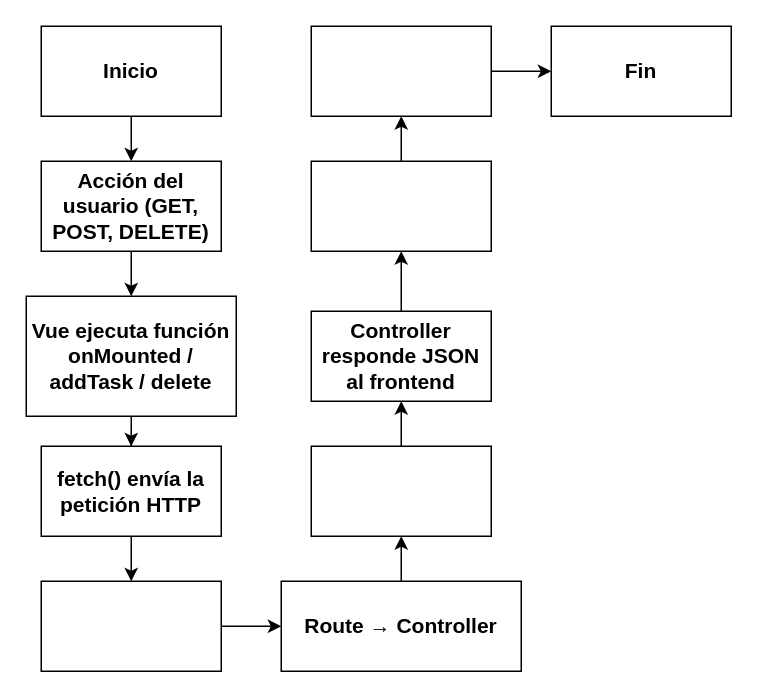
Image size: 758x698. Some labels were removed from this diagram. Each missing label, with the box of its shape:
DOM se actualiza: (310, 25, 491, 116)
Express recibe la petición: (40, 580, 221, 671)
Service accede a tasks.json: (310, 445, 491, 536)
Vue actualiza estado (tasks): (310, 160, 491, 251)
